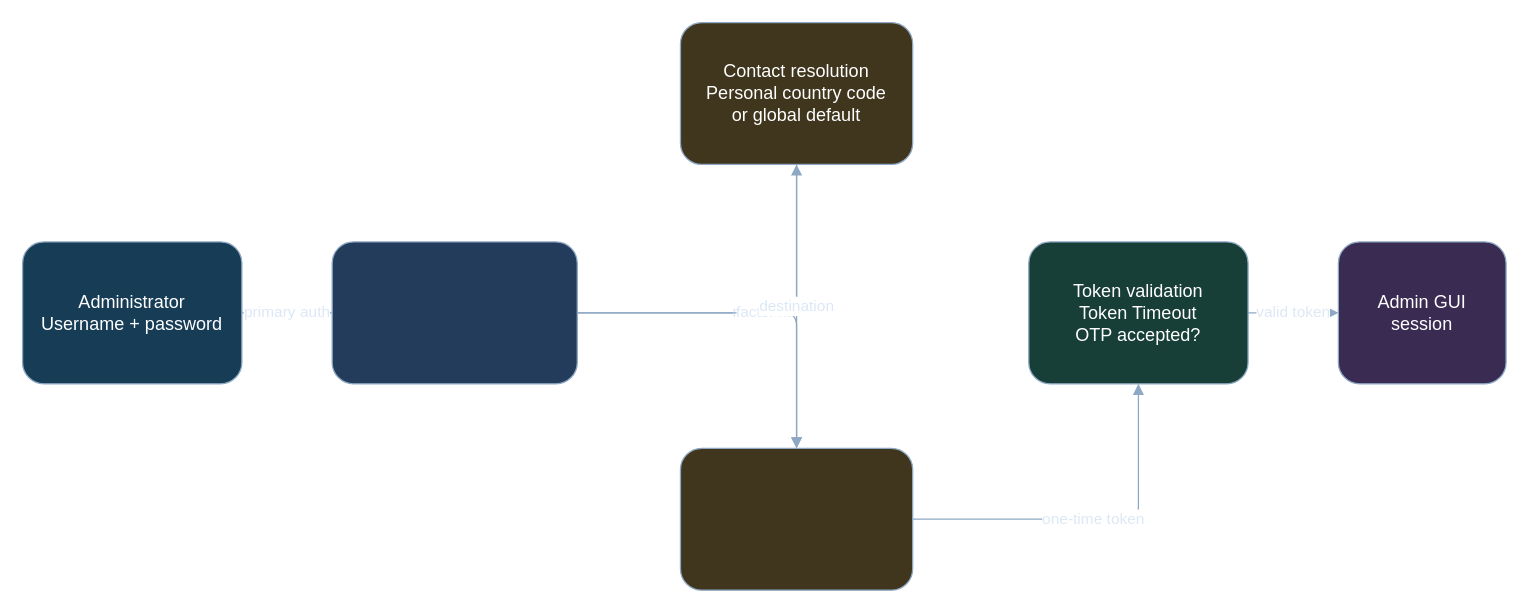
The diagram is 1529 pixels wide and 613 high, and some of its shapes have lost their labels. Here are the shapes that lost their labels. From the top down, the box of each, then its label:
(331, 241, 577, 384): MFA policy Individual setting or Global enforcement
(679, 447, 913, 590): SMS / Email REST SMS Gateway Token delivery
